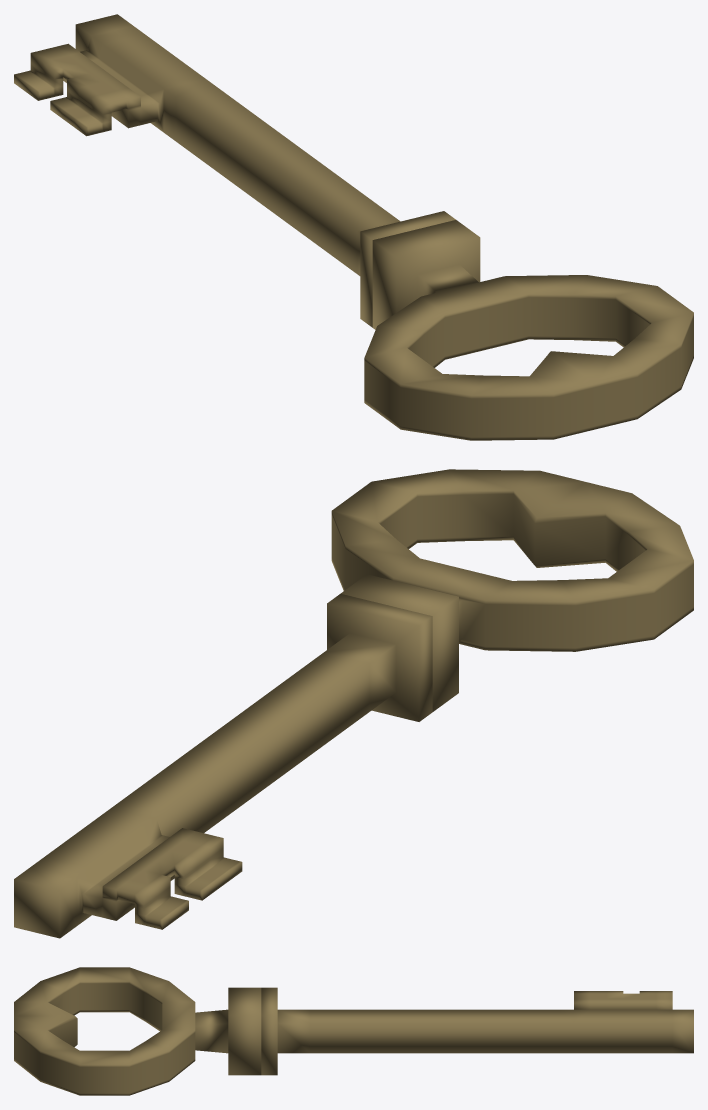
The model's file is key.glb.
The picture shows the model from 3 angles, top to bottom: view 1: azimuth 30°, elevation 25°; view 2: azimuth 150°, elevation 25°; view 3: azimuth 270°, elevation 25°; orthographic projection. The views are drawn at different scales.
Visible parts, largest first — view 1: Cube; view 2: Cube; view 3: Cube.
Part boxes in pixels (x1,y1,x2,y2): Cube: [14, 14, 693, 440]; Cube: [14, 469, 693, 938]; Cube: [14, 967, 693, 1095].
Size of the model in its own units: 0.4127 by 0.1178 by 1.22.
